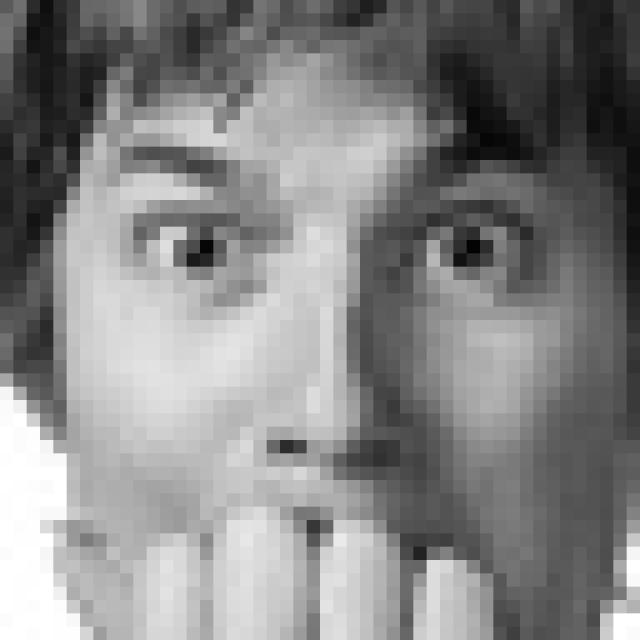fear: (103, 127, 558, 619)
